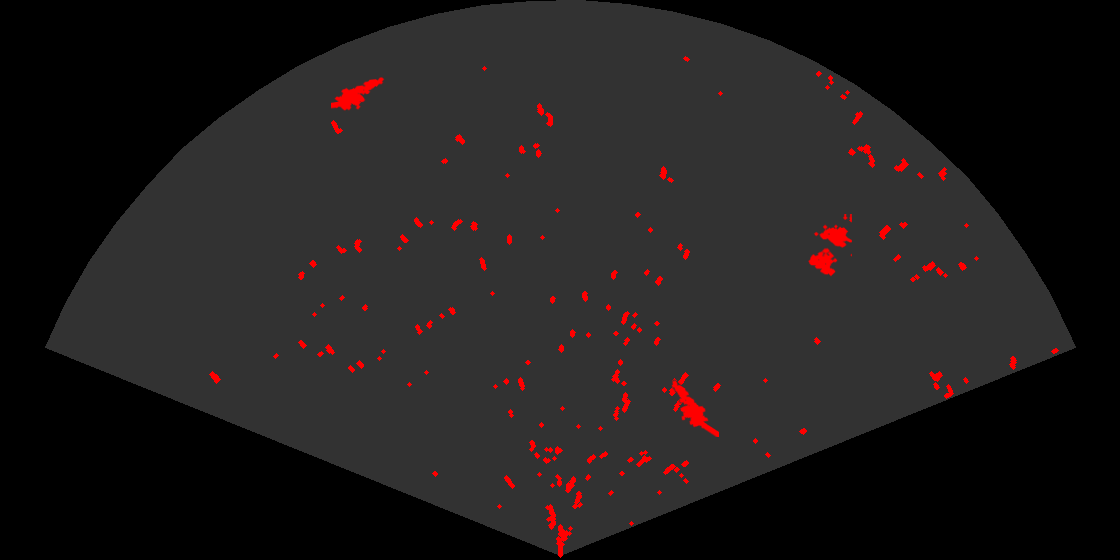cage: (807, 214, 852, 278)
frogman: (670, 379, 719, 437), (331, 76, 386, 112)
